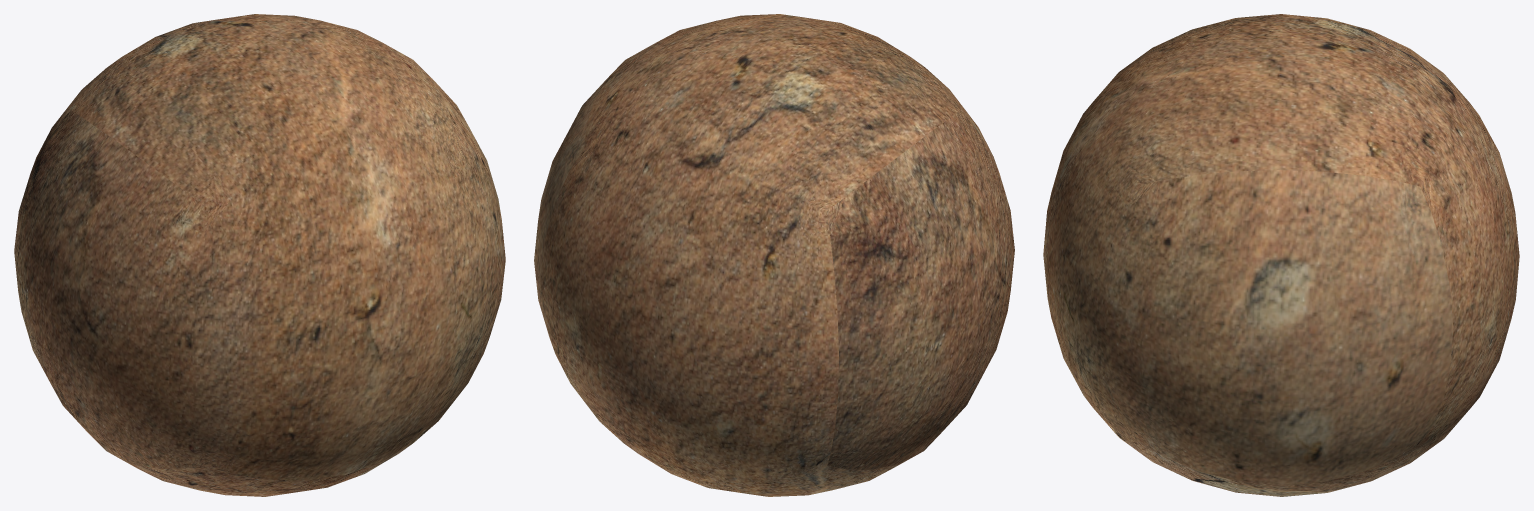
File: Boulder Model.fbx
3 views of the same model, side by side, from view 1: azimuth 30°, elevation 25°; view 2: azimuth 150°, elevation 25°; view 3: azimuth 270°, elevation 25° (orthographic).
Parts seen in each view (by area): view 1: pCube1; view 2: pCube1; view 3: pCube1.
Boxes of the visible parts, x1,y1,x2,y2 form: pCube1: [14, 14, 505, 496]; pCube1: [534, 14, 1014, 496]; pCube1: [1043, 14, 1519, 496].
Size of the model in its own units: 14.13 by 14.06 by 13.96.
Materials: 1 (1 with a texture image).
